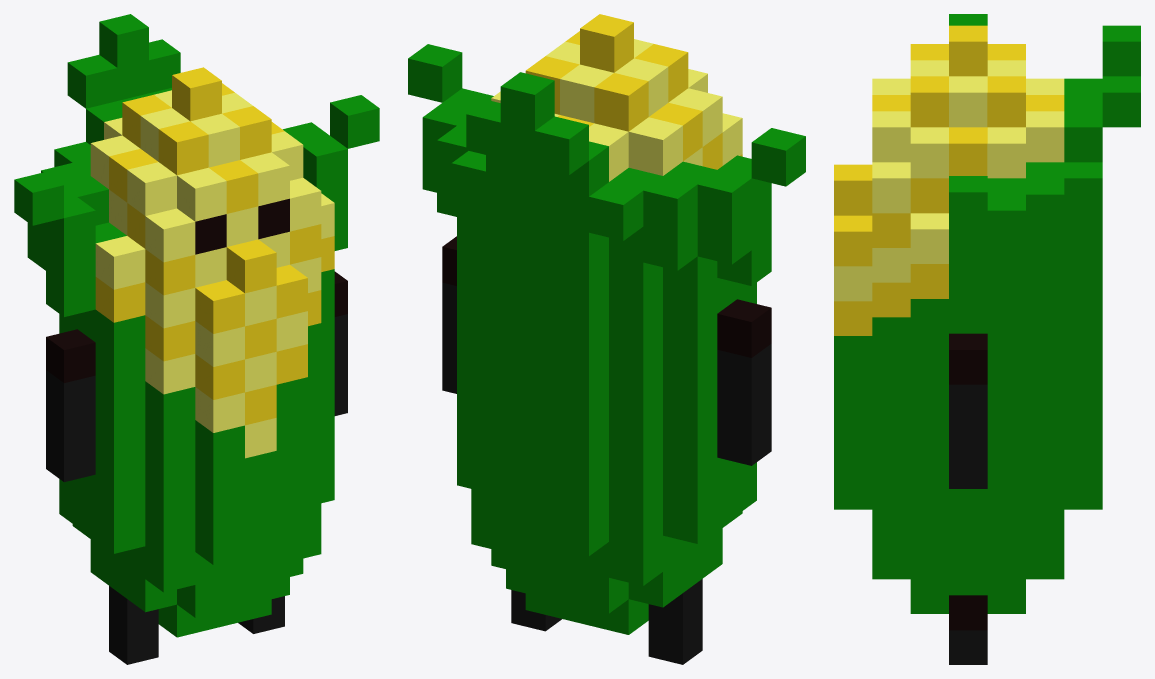
The model's file is CornAnimate.obj.
3 renders of one model, left to right at view 1: azimuth 30°, elevation 25°; view 2: azimuth 150°, elevation 25°; view 3: azimuth 270°, elevation 25°, orthographic. The views are drawn at different scales.
Size of the model in its own units: 11 by 17 by 8.
Materials: 1 (1 with a texture image).
